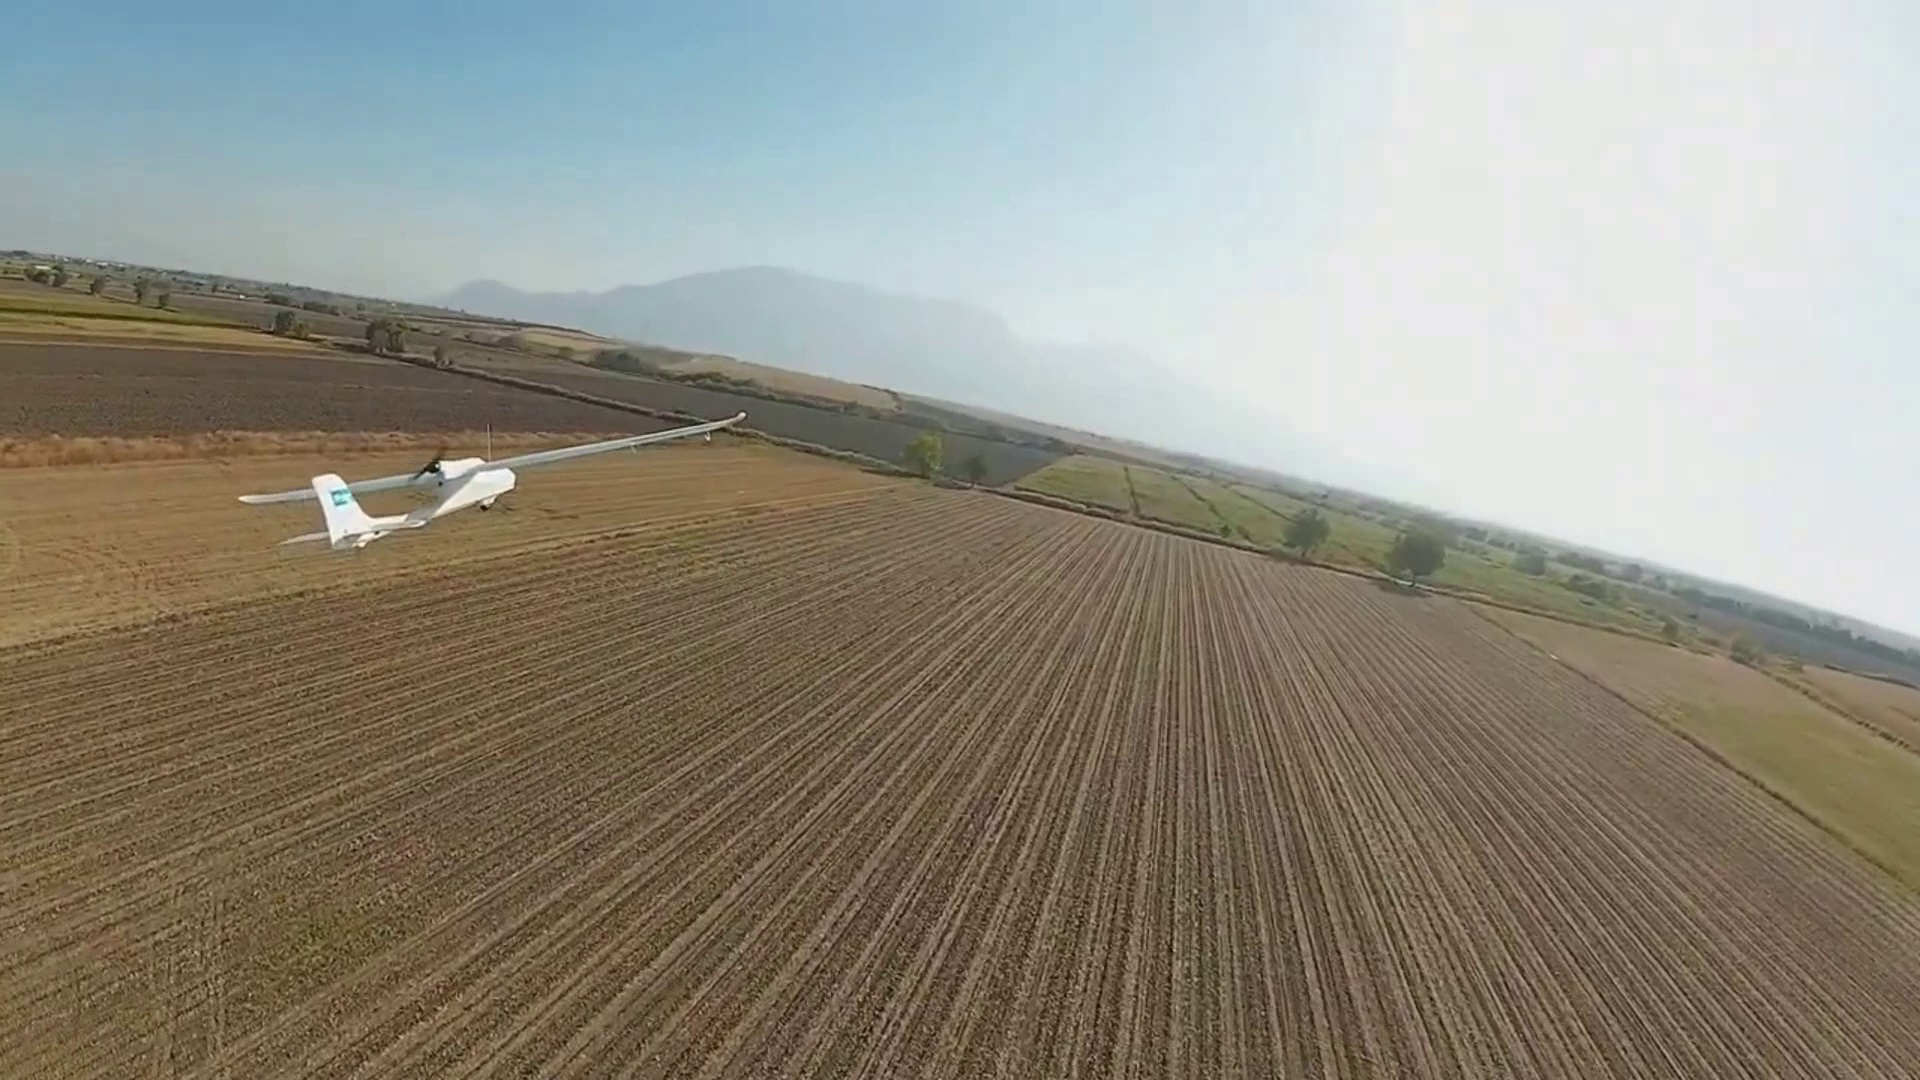airplane: (237, 423, 738, 554), (237, 455, 518, 553)
